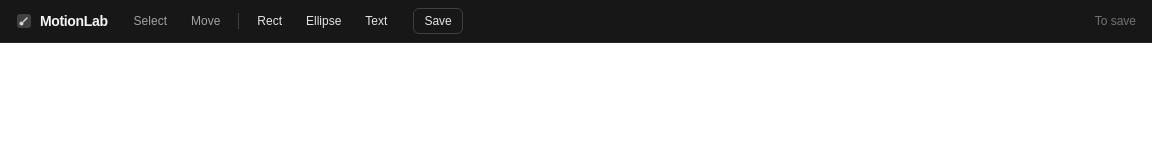
Test: EditorToolbar — save project (T14) › persists the current project through the repository
Click the button with aria-label "Save project" at (438, 21), box [413,8,463,34]
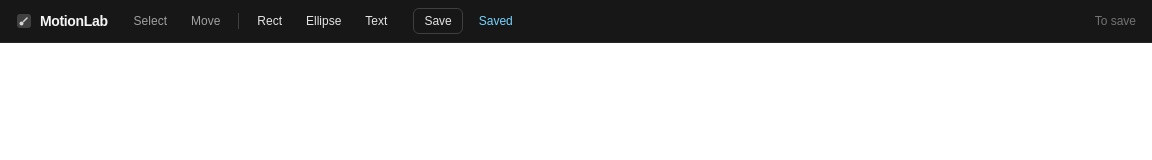
Expected: the text "To save" is shown, [1095,13,1136,29]
Now the text with test id "save-state" reads "Saved", box [479,14,513,28]
